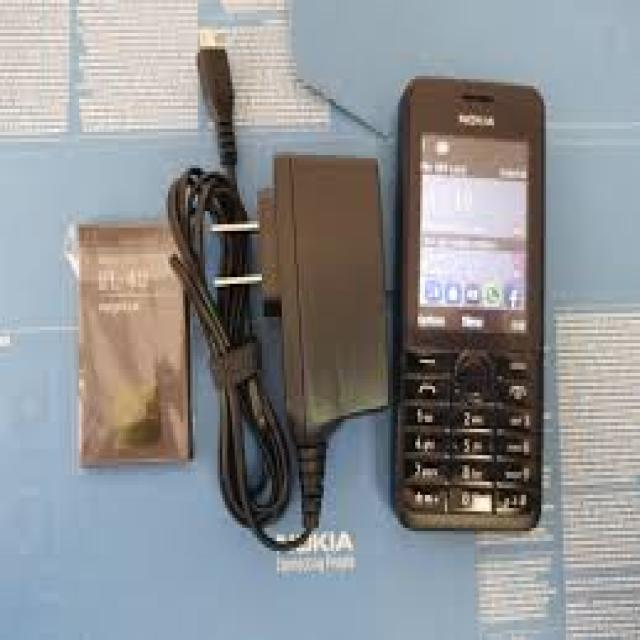mobile phone: (388, 69, 546, 531)
